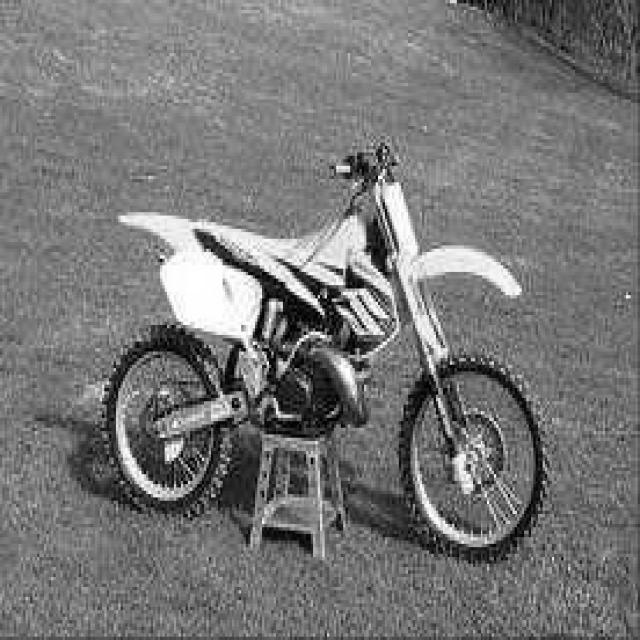Motorcycle: (104, 144, 546, 558)
